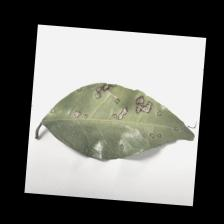canker: (76, 83, 160, 125)
